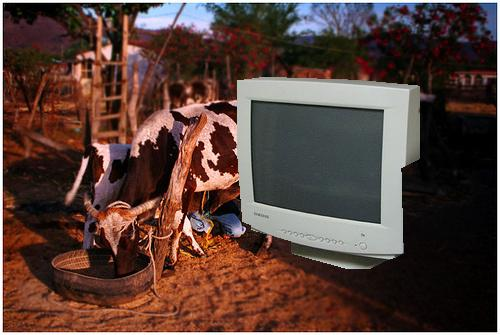tampered: (238, 78, 420, 269)
